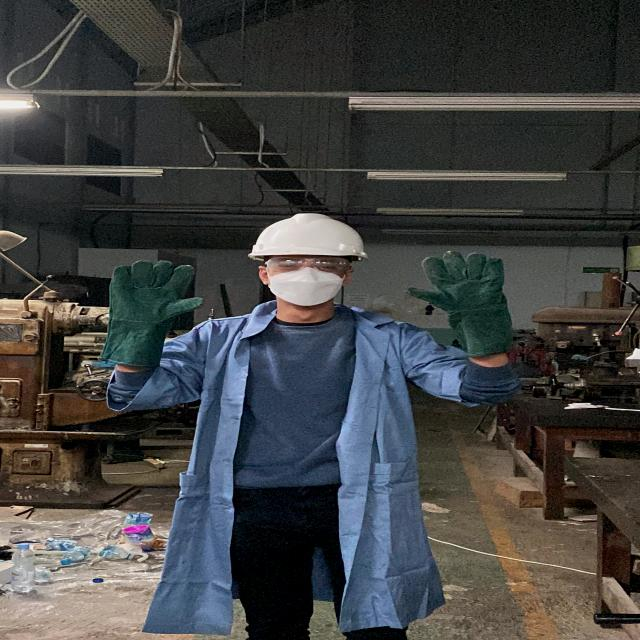face_mask: (260, 252, 356, 304)
glasses: (258, 254, 361, 273)
hand_glove: (99, 259, 218, 337), (411, 244, 517, 318)
head_helmet: (247, 210, 377, 263)
